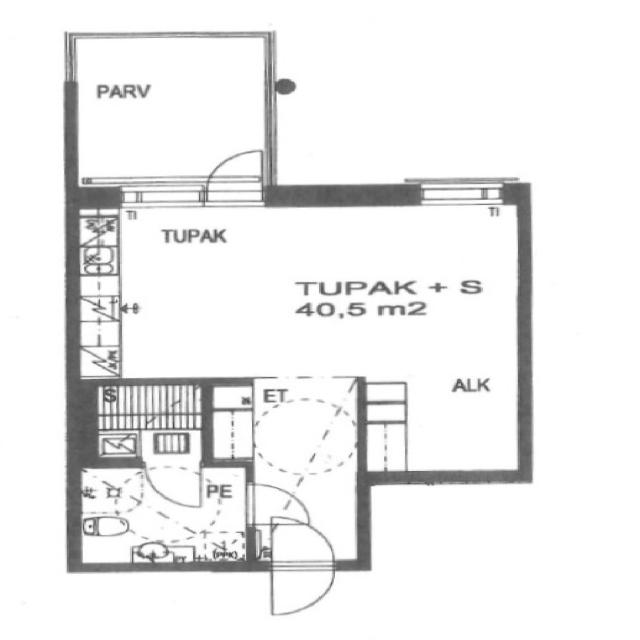door: (260, 515, 338, 619), (199, 142, 270, 195), (142, 456, 206, 511), (238, 478, 308, 527)
window: (406, 174, 510, 212), (118, 179, 209, 210)
zone: (104, 199, 519, 382), (67, 33, 273, 190), (72, 460, 251, 568), (83, 382, 206, 461)
